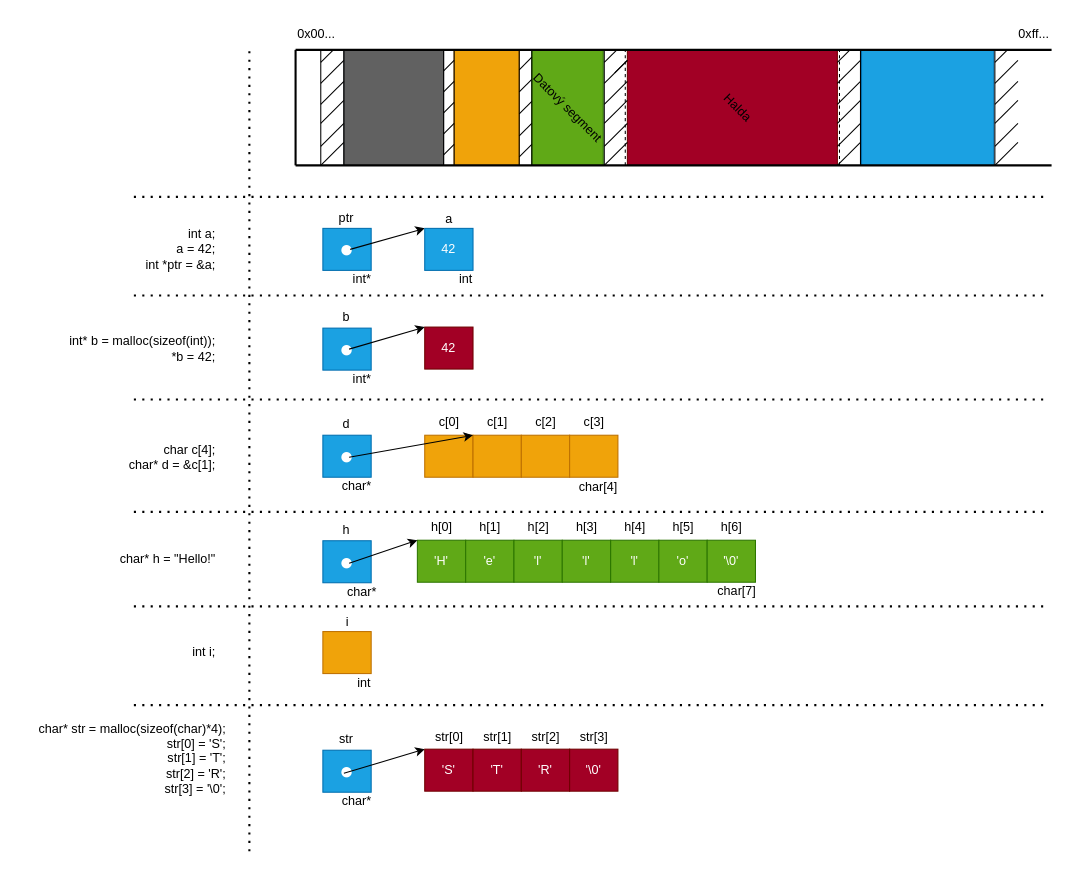
This 1071x871 diagram has some shape labels left out. The centre of each missing label's shape, as x and y in pixels:
BSS data: point 486,107
Segment kódu: point 393,107
Zásobník: point 927,107
